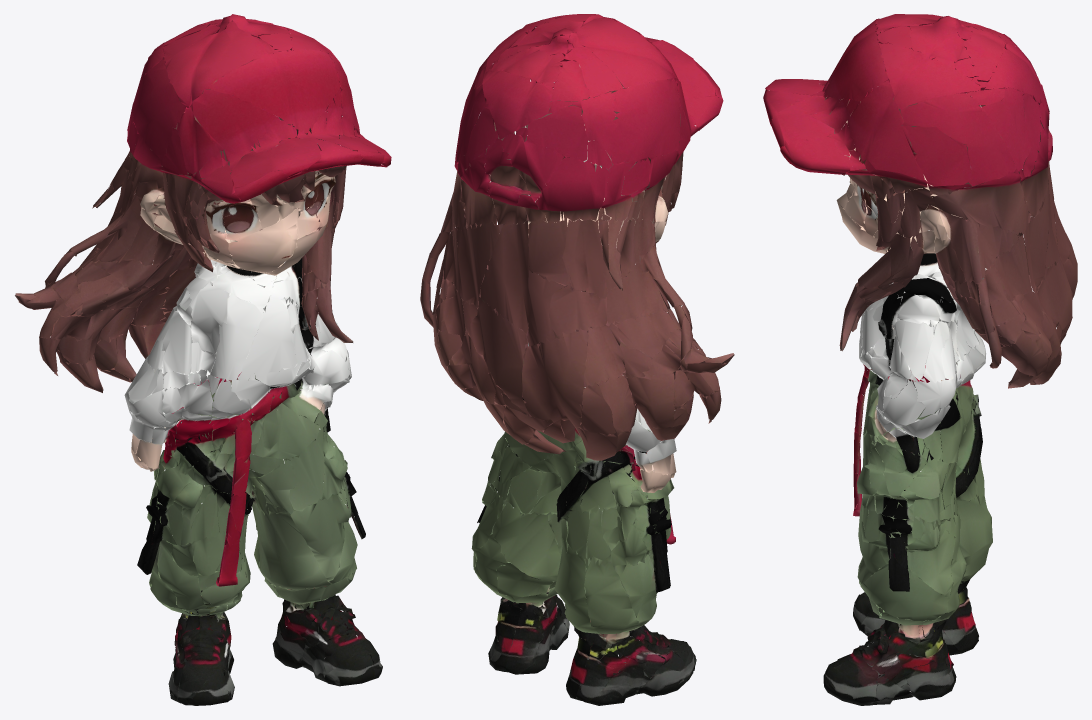
The model's file is avatar_female.glb.
3 views of the same model, side by side, from view 1: azimuth 30°, elevation 25°; view 2: azimuth 150°, elevation 25°; view 3: azimuth 270°, elevation 25° (orthographic). The views are drawn at different scales.
Visible parts, largest first — view 1: Mesh_0; view 2: Mesh_0; view 3: Mesh_0.
Part boxes in pixels (x1,y1,x2,y2): Mesh_0: (15,14,391,705); Mesh_0: (420,14,734,705); Mesh_0: (763,14,1077,705).
Bounding box in the file's own units: 0.9647 × 1.9 × 0.8416.
Materials: 1 (1 with a texture image).
